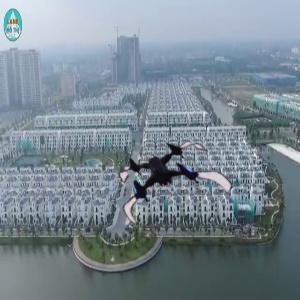drone: (111, 128, 220, 237)
